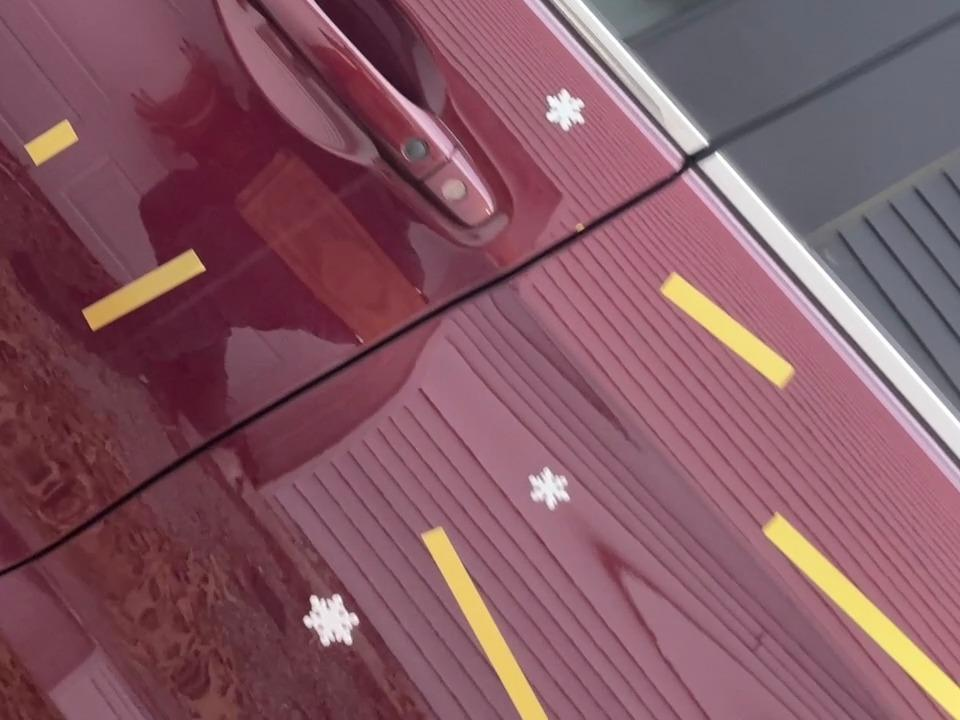dent: (291, 586, 373, 659), (536, 79, 594, 149), (521, 456, 582, 522)
scratch: (751, 503, 960, 720), (423, 513, 563, 720), (651, 266, 809, 398), (76, 239, 213, 351), (19, 106, 90, 178)
